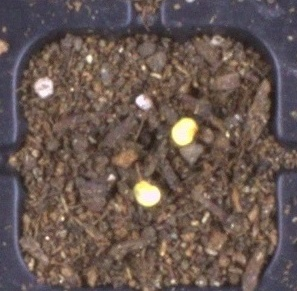chilli seed: (170, 116, 197, 146), (133, 181, 161, 207)
